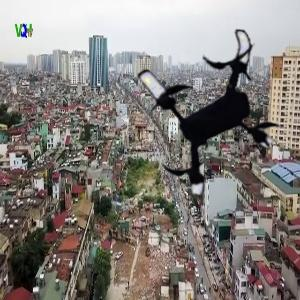drone: (118, 19, 294, 195)
